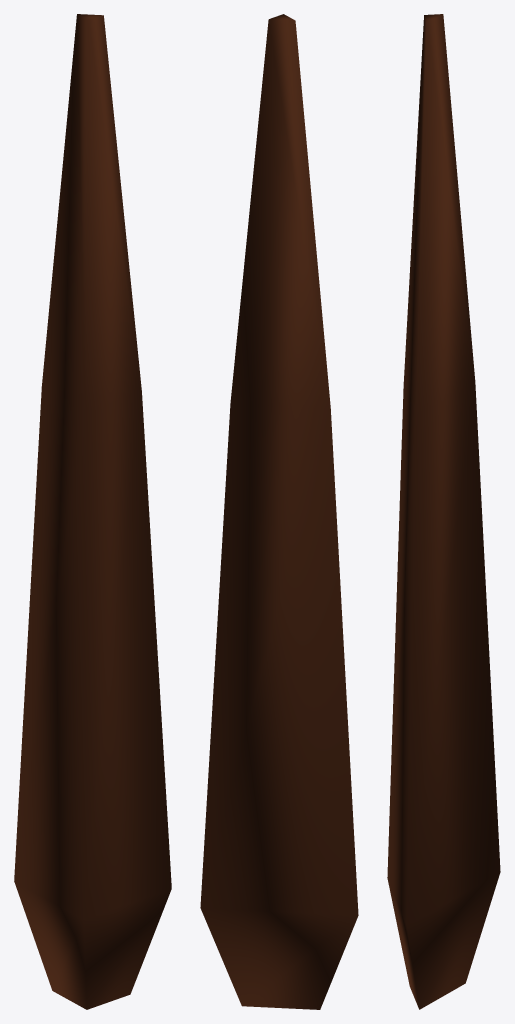
File: Coffee_Drop.glb
3 renders of one model, left to right at view 1: azimuth 30°, elevation 25°; view 2: azimuth 210°, elevation 25°; view 3: azimuth 270°, elevation 25°, orthographic.
Parts seen in each view (by area): view 1: Coffee_Drop; view 2: Coffee_Drop; view 3: Coffee_Drop.
Part boxes in pixels (<box>): Coffee_Drop: <box>14,14,171,1009</box>; Coffee_Drop: <box>200,14,358,1009</box>; Coffee_Drop: <box>387,14,500,1009</box>.
Bounding box in the file's own units: 0.00326 × 0.0276 × 0.0029.
